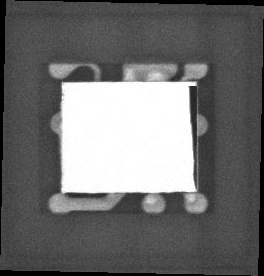DIE_BROKEN: (186, 83, 199, 189)
